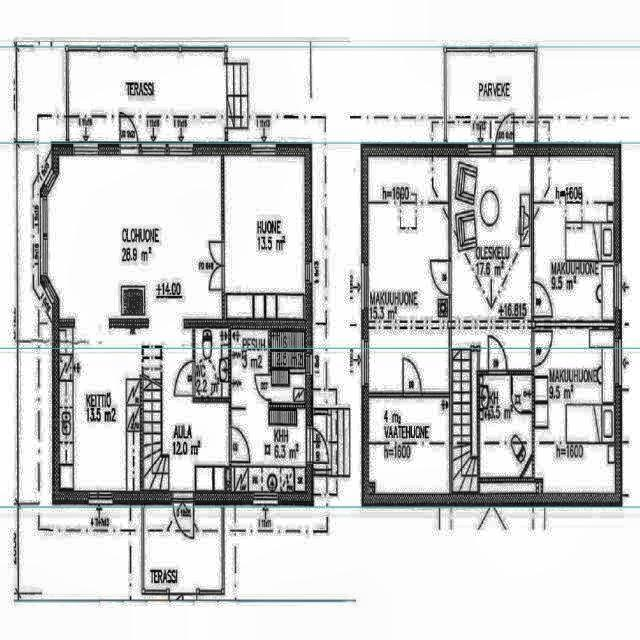room: (368, 156, 449, 393), (533, 328, 615, 493), (533, 156, 614, 320), (224, 155, 305, 319), (231, 329, 305, 492), (369, 397, 449, 494), (480, 375, 532, 477), (195, 327, 229, 398)
